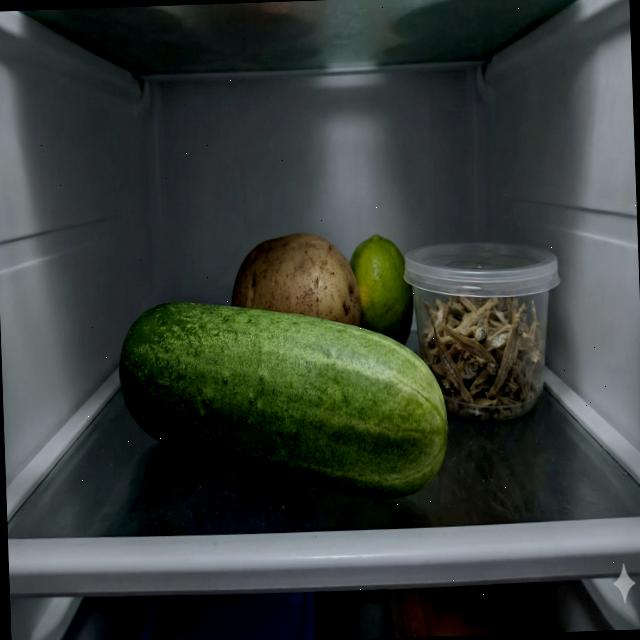anchovies: (400, 235, 566, 424)
cucumber: (116, 288, 450, 511)
lime: (348, 232, 414, 346)
potato: (228, 229, 362, 332)
